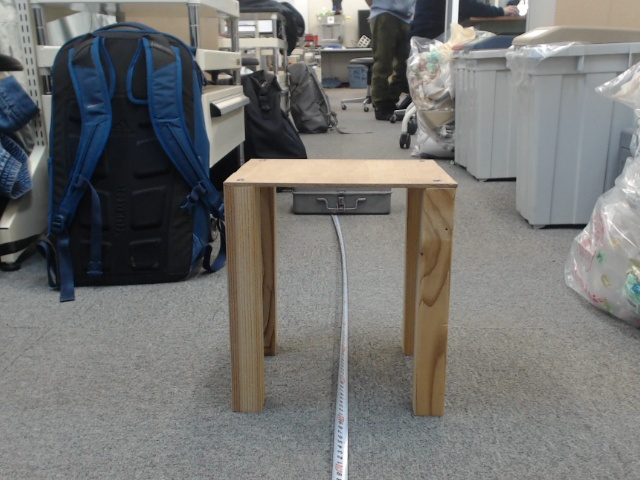desk: (310, 123, 542, 398)
